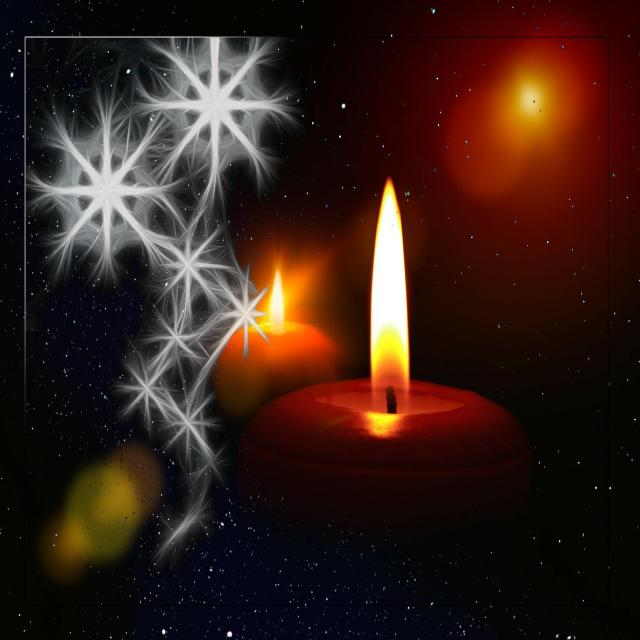Fire_Save: (237, 174, 532, 526), (209, 268, 344, 422)
